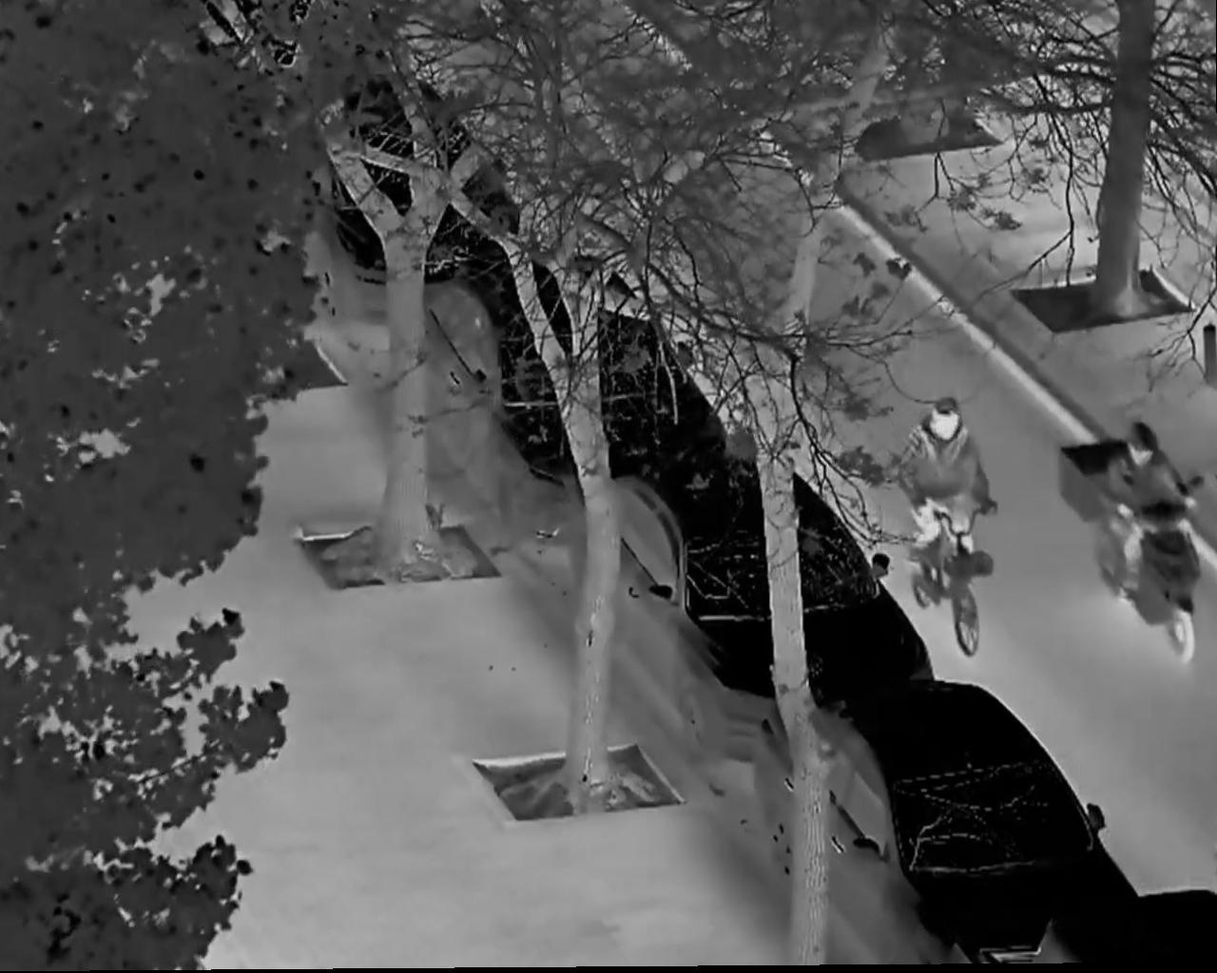person: (898, 401, 1001, 597), (1111, 426, 1200, 603)
